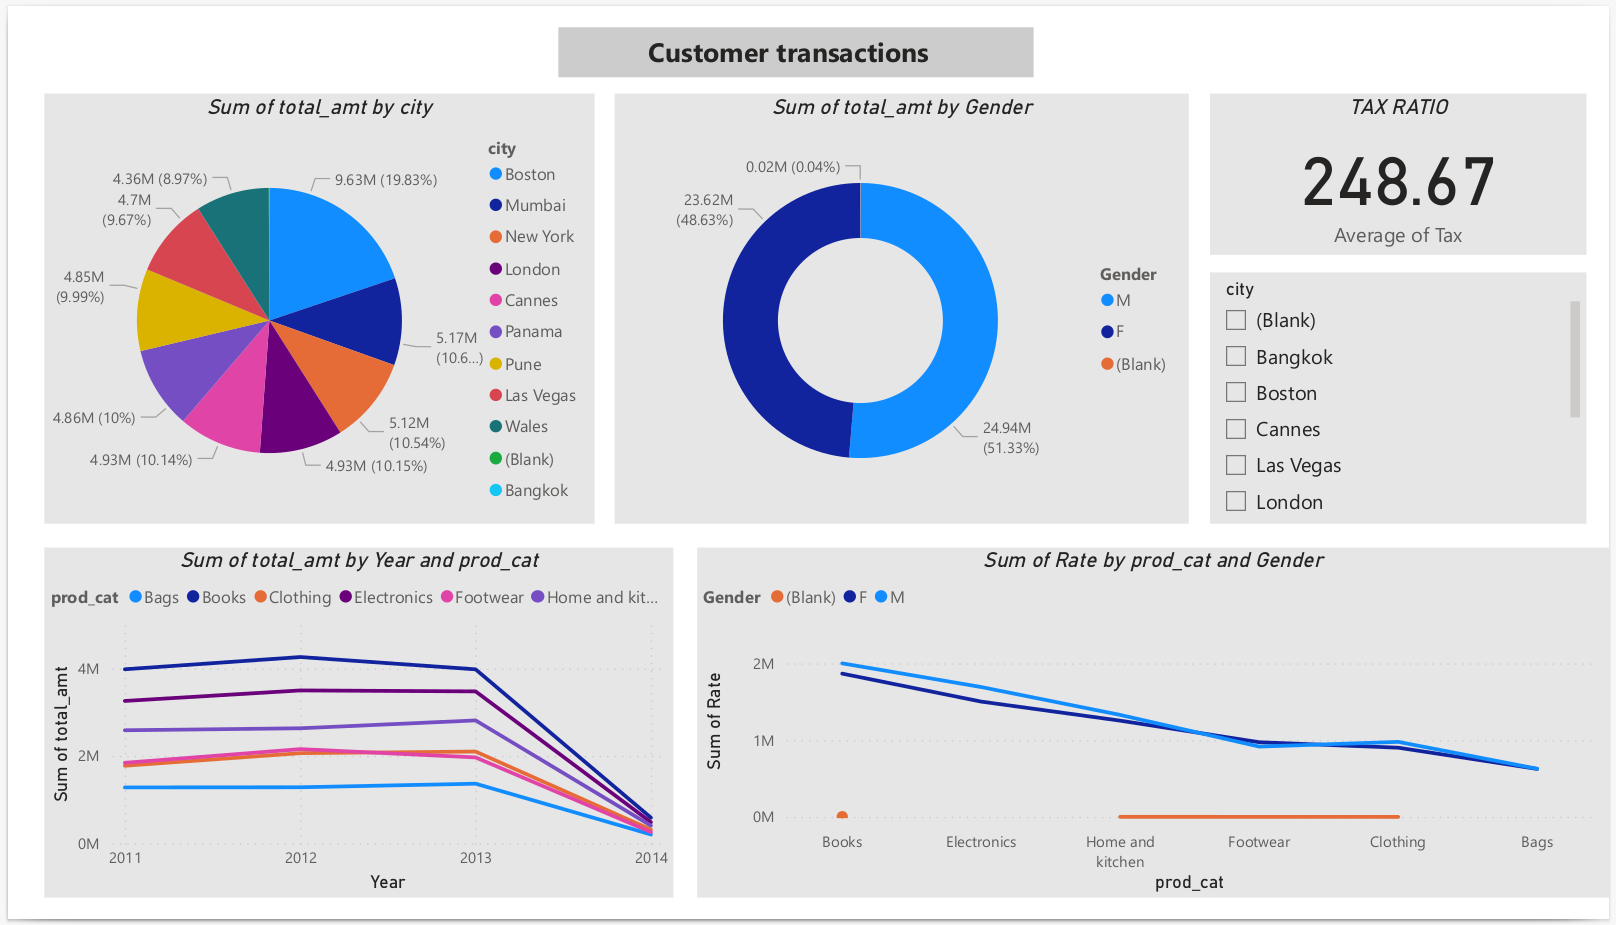

The dashboard page shown, as its layout file describes it:
{"tool":"powerbi","page":{"name":"Page 1","canvas":[1280,720],"ordinal":0},"visuals":[{"type":"pieChart","fields":{"Category":["Customer.city"],"Y":["Sum(Transactions.total_amt)"]},"box":[29.2,65.3,439.9,343.7],"z":0},{"type":"lineChart","fields":{"Category":["Transactions.tran_date.Variation.Date Hierarchy.Year"],"Y":["Sum(Transactions.total_amt)"],"Series":["Product_Category_Subcategory.prod_cat"]},"box":[29.2,427.9,503.5,280.1],"z":1000},{"type":"donutChart","fields":{"Y":["Sum(Transactions.total_amt)"],"Category":["Customer.Gender"]},"box":[484.6,65.3,458.8,343.7],"z":2000},{"type":"textbox","box":[439.9,12,379.8,39.5],"z":3000},{"type":"lineChart","fields":{"Category":["Product_Category_Subcategory.prod_cat"],"Y":["Sum(Transactions.Rate)"],"Series":["Customer.Gender"]},"box":[551.4,427.9,728.6,280.1],"z":4000},{"type":"card","title":"TAX RATIO","fields":{"Values":["Avg(Transactions.Tax)"]},"box":[960.6,65.3,300.7,128.9],"z":4001},{"type":"slicer","fields":{"Values":["Customer.city"]},"box":[960.6,207.9,300.7,201.1],"z":4002}]}

Visuals, with their boxes in screenshot pixels (x1, y1, x2, y2), scaled from the page's 1280x720 canvas onto the 1616x925 screenshot:
pieChart - Customer.city x Sum(Transactions.total_amt): (37, 84, 592, 525)
lineChart - Transactions.tran_date.Variation.Date Hierarchy.Year x Sum(Transactions.total_amt): (37, 550, 673, 910)
donutChart - Sum(Transactions.total_amt) x Customer.Gender: (612, 84, 1191, 525)
textbox: (555, 15, 1035, 66)
lineChart - Product_Category_Subcategory.prod_cat x Sum(Transactions.Rate): (696, 550, 1615, 910)
"TAX RATIO" card: (1213, 84, 1592, 249)
slicer - Customer.city: (1213, 267, 1592, 525)
